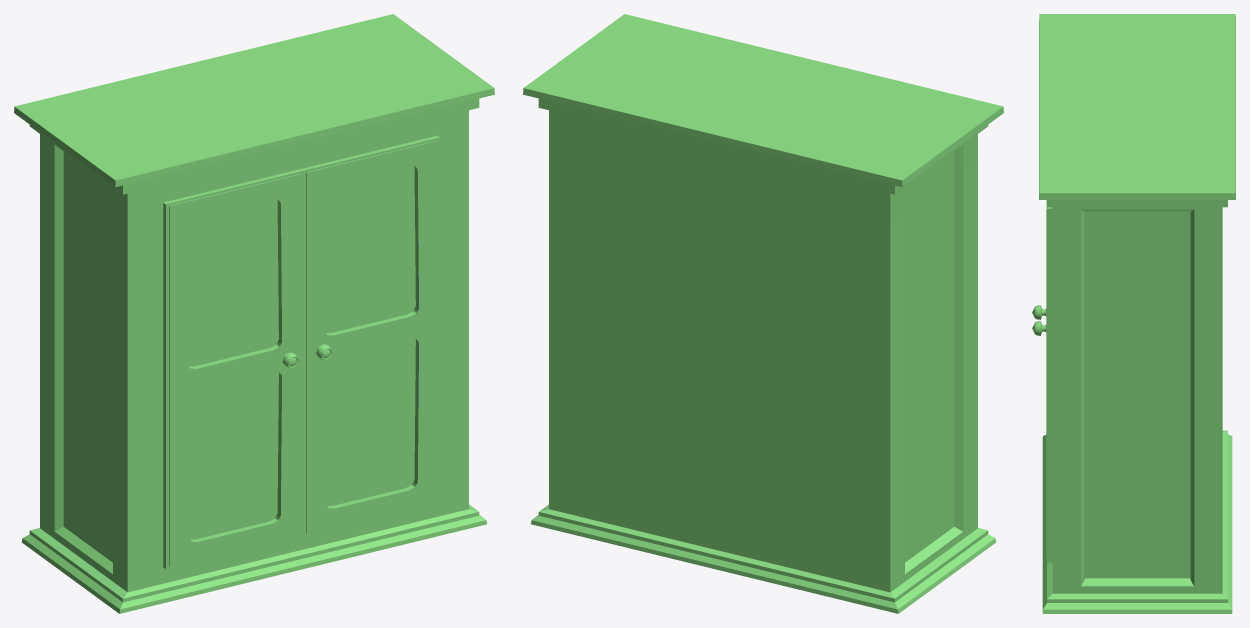
File: Closed-02.fbx
3 views of the same model, side by side, from view 1: azimuth 30°, elevation 25°; view 2: azimuth 150°, elevation 25°; view 3: azimuth 270°, elevation 25° (orthographic). The views are drawn at different scales.
Visible parts, largest first — view 1: Closed-02_low.001, Closed-Door-02_low.003, Closed-Door-02_low.002; view 2: Closed-02_low.001; view 3: Closed-02_low.001, Closed-Door-02_low.002.
Part boxes in pixels (box(x1,y1,x2,y2)): Closed-02_low.001: box(14, 14, 494, 613); Closed-Door-02_low.003: box(163, 169, 302, 568); Closed-Door-02_low.002: box(300, 135, 439, 535); Closed-02_low.001: box(523, 14, 1003, 613); Closed-02_low.001: box(1039, 14, 1235, 613); Closed-Door-02_low.002: box(1032, 200, 1052, 562).
Size of the model in its own units: 200 by 96.01 by 220.
